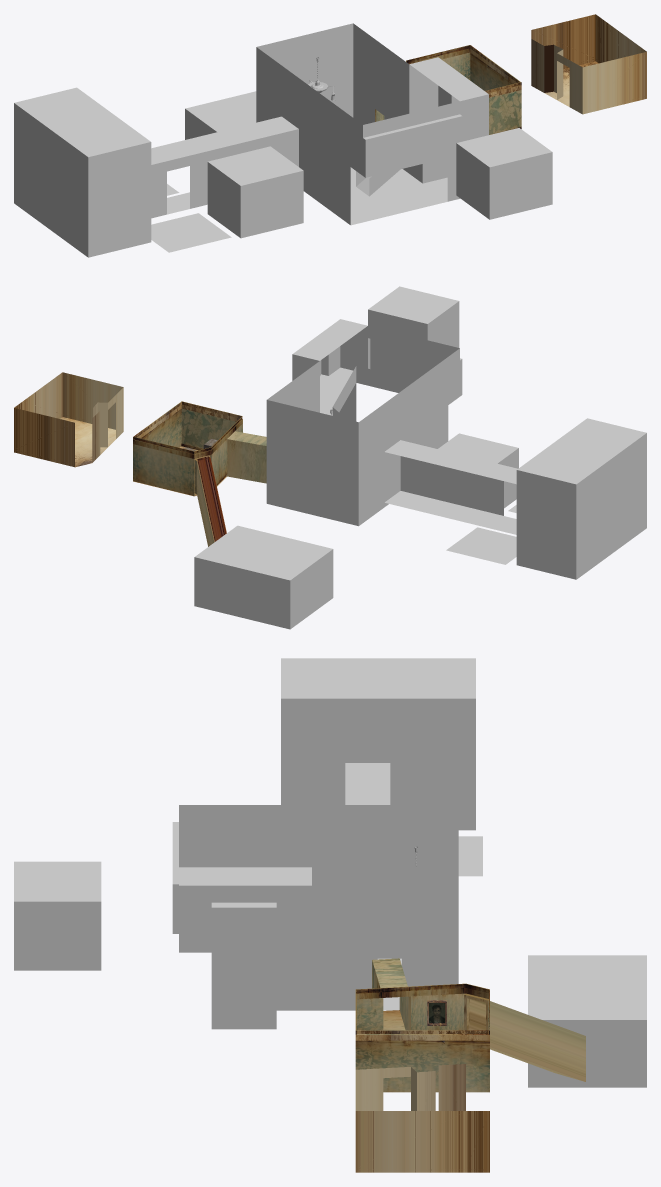
Rendered from hall.fbx.
3 renders of one model, top to bottom at view 1: azimuth 30°, elevation 25°; view 2: azimuth 150°, elevation 25°; view 3: azimuth 270°, elevation 25°, orthographic. The views are drawn at different scales.
Visible parts, largest first — view 1: 平面, 平面.005, waking room.001, 平面.006, 平面.007, 平面.002, waking room, 平面.001, 平面.004; view 2: 平面, 平面.005, 平面.001, waking room, waking room.001, 平面.002, 平面.007, 平面.006, 平面.003; view 3: 平面, 平面.005, waking room, 平面.001, waking room.001, 平面.007, 平面.002, 平面.003.
Part boxes in pixels (<box>): 平面: <box>256,23,488,225</box>; 平面.005: <box>14,87,151,257</box>; waking room.001: <box>531,14,646,114</box>; 平面.006: <box>207,146,303,238</box>; 平面.007: <box>456,128,552,219</box>; 平面.002: <box>151,116,298,218</box>; waking room: <box>375,45,521,134</box>; 平面.001: <box>185,91,256,139</box>; 平面.004: <box>151,213,231,252</box>; 平面: <box>266,319,462,526</box>; 平面.005: <box>516,418,646,579</box>; 平面.001: <box>194,525,333,629</box>; waking room: <box>133,401,266,546</box>; waking room.001: <box>14,372,123,467</box>; 平面.002: <box>385,440,517,534</box>; 平面.007: <box>368,286,459,347</box>; 平面.006: <box>438,433,518,508</box>; 平面.003: <box>446,527,516,564</box>; 平面: <box>172,805,458,1029</box>; 平面.005: <box>281,658,475,830</box>; waking room: <box>355,958,585,1092</box>; 平面.001: <box>528,955,646,1087</box>; waking room.001: <box>355,1064,489,1172</box>; 平面.007: <box>14,861,101,970</box>; 平面.002: <box>345,763,390,804</box>; 平面.003: <box>458,836,482,876</box>.
Bounding box in the file's own units: 6443 × 1740 × 4587.
